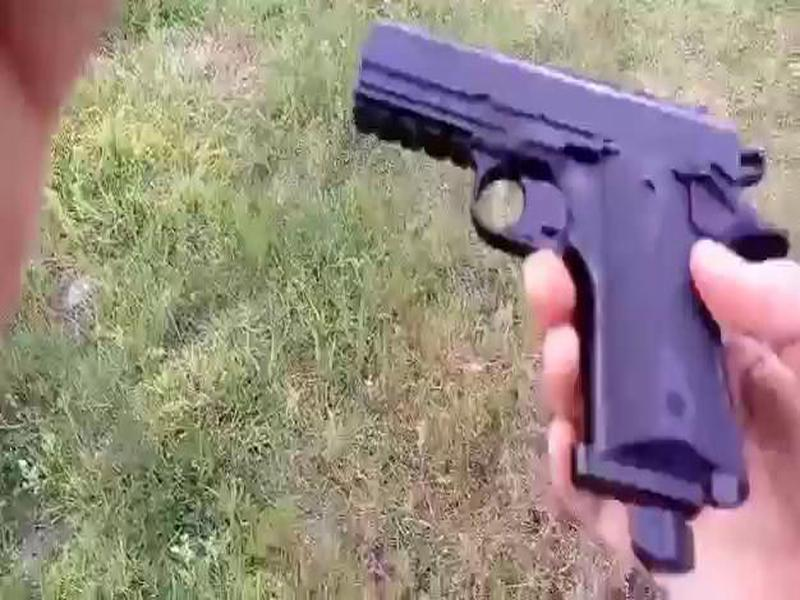Pistola: (317, 28, 764, 535)
